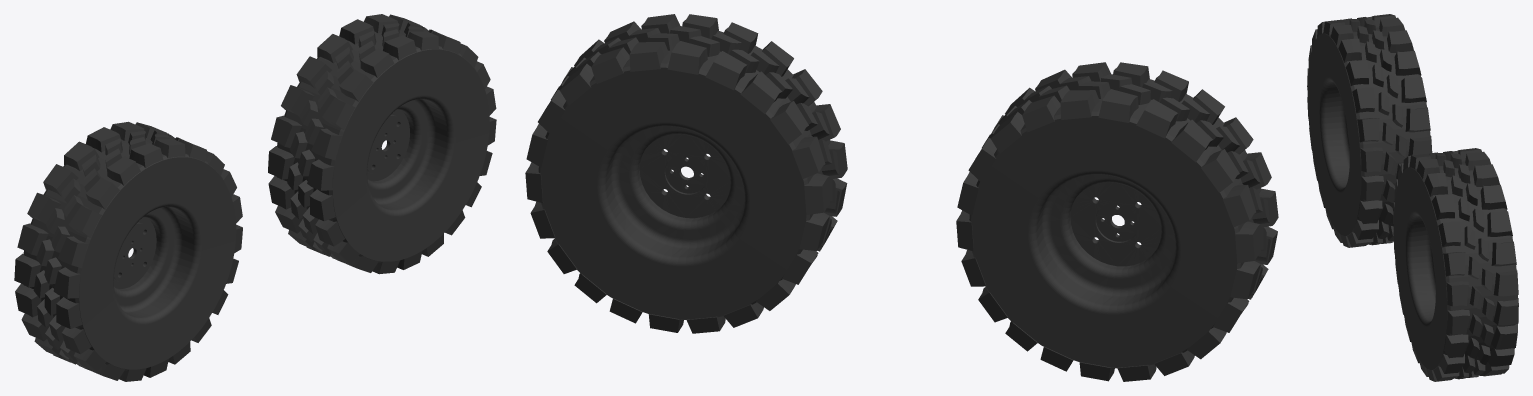
File: robots_02.dae
3 renders of one model, left to right at view 1: azimuth 30°, elevation 25°; view 2: azimuth 150°, elevation 25°; view 3: azimuth 270°, elevation 25°, orthographic. The views are drawn at different scales.
Parts seen in each view (by area): view 1: Object019; view 2: Object019; view 3: Object019.
Part boxes in pixels (x1=…): Object019: x1=14, y1=14, x2=496, y2=381; Object019: x1=525, y1=14, x2=1278, y2=381; Object019: x1=1307, y1=14, x2=1518, y2=381.
Bounding box in the file's own units: 86.23 × 32.9 × 35.4.
1 material, 1 textured.
